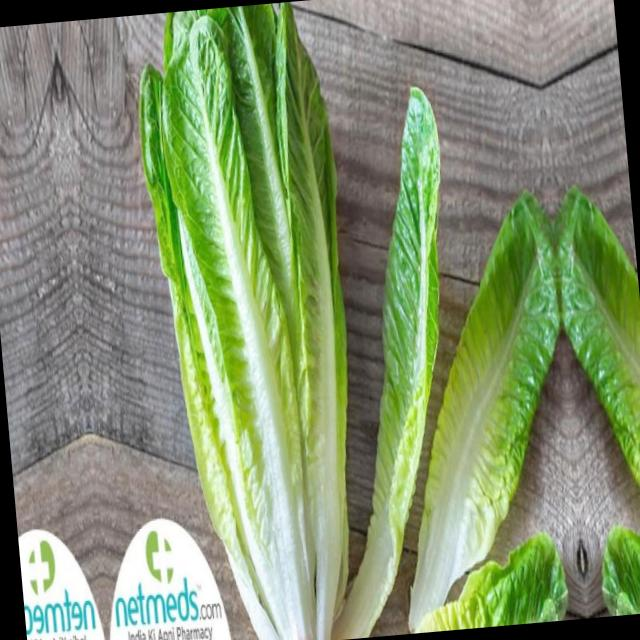healthy: (130, 0, 480, 640), (371, 176, 587, 634), (548, 169, 640, 617), (0, 29, 32, 640)
